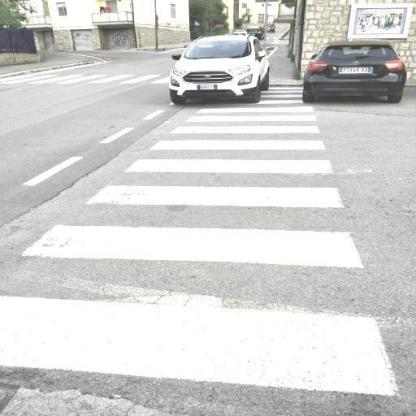crosswalk: (14, 179, 367, 275), (146, 124, 333, 155)
